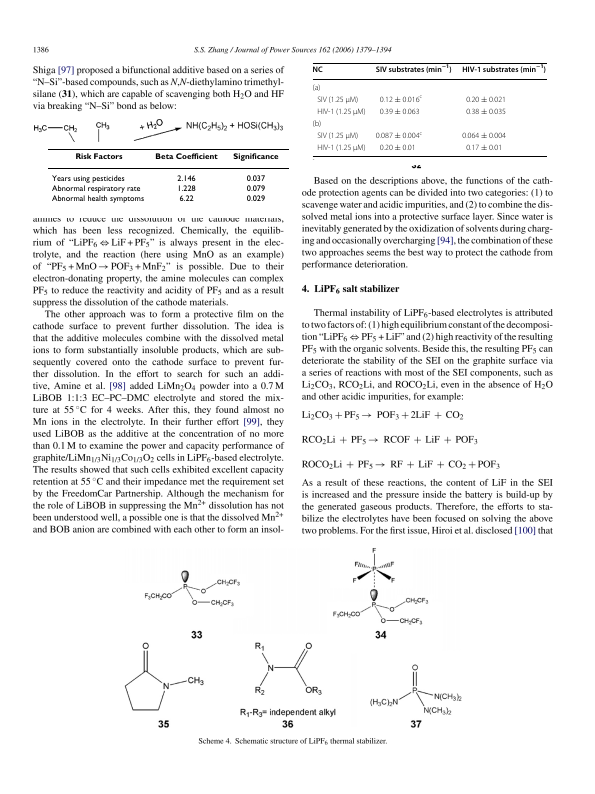borderless: (311, 61, 547, 156), (46, 147, 290, 212)
cell: (51, 194, 145, 204), (51, 184, 141, 194), (461, 64, 547, 74), (375, 64, 453, 74), (51, 174, 125, 183), (154, 152, 218, 161), (375, 130, 423, 141), (316, 107, 367, 117), (379, 94, 423, 105), (316, 144, 367, 153), (74, 152, 123, 161), (316, 95, 359, 105), (232, 152, 279, 161), (465, 95, 507, 105), (379, 107, 421, 117), (465, 107, 507, 117), (461, 132, 507, 141), (316, 132, 359, 141), (379, 144, 417, 153), (465, 144, 503, 153), (245, 184, 266, 194), (245, 194, 266, 204), (176, 184, 196, 194), (245, 174, 266, 183), (176, 174, 196, 183), (178, 194, 194, 204), (312, 65, 324, 74), (312, 83, 321, 93), (312, 120, 322, 129)
